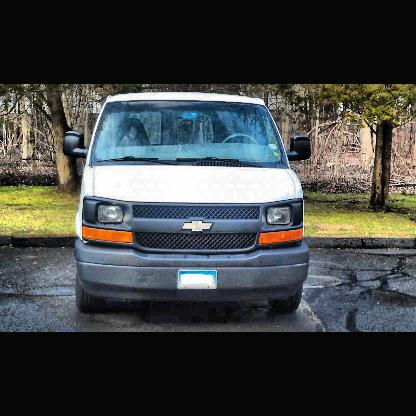Chevrolet Express Van 2007: (62, 91, 313, 317)
